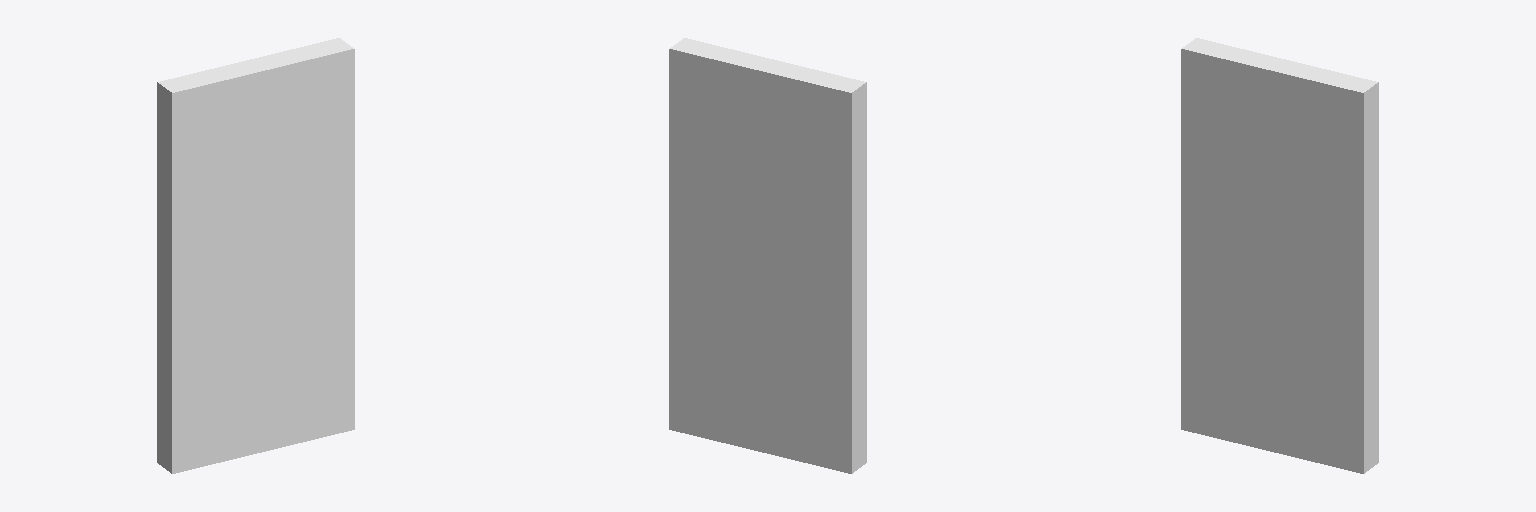
Rendered from door1_right.obj.
3 views of the same model, side by side, from view 1: azimuth 30°, elevation 25°; view 2: azimuth 150°, elevation 25°; view 3: azimuth 330°, elevation 25° (orthographic).
Parts seen in each view (by area): view 1: object 1; view 2: object 1; view 3: object 1.
Part boxes in pixels (x1,y1,x2,y2): object 1: (157, 38, 354, 473); object 1: (669, 38, 866, 473); object 1: (1181, 38, 1378, 473).
Bounding box in the file's own units: 0.7 × 1.4 × 0.1.